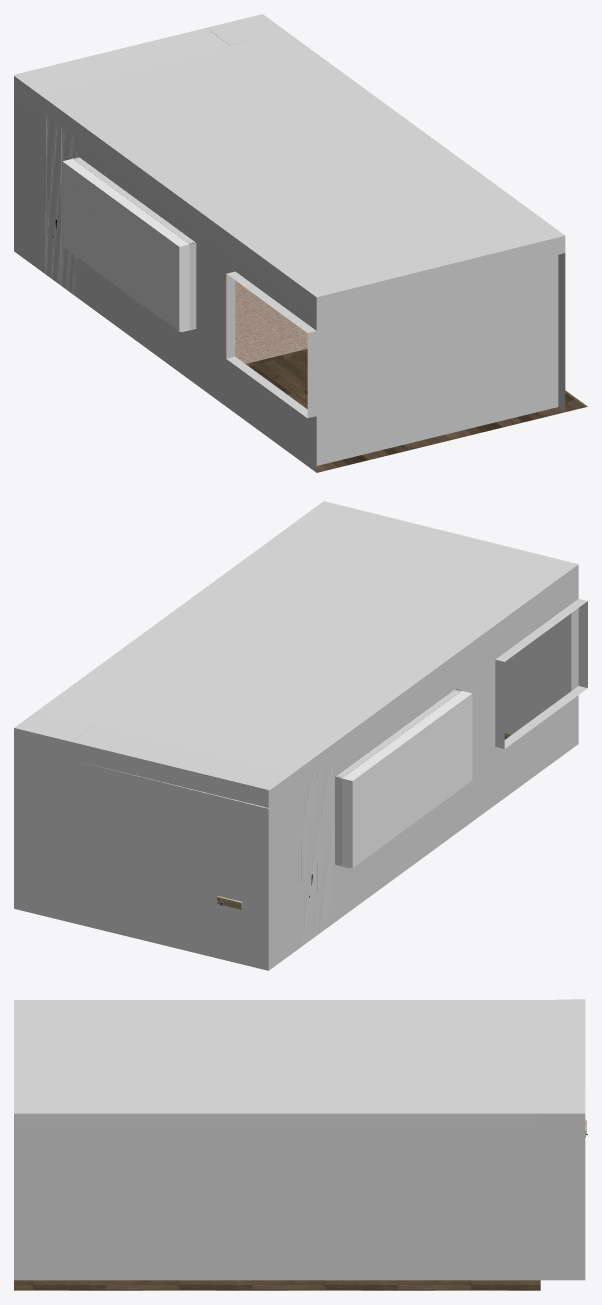
Rendered from beeb.glb.
3 renders of one model, top to bottom at view 1: azimuth 30°, elevation 25°; view 2: azimuth 150°, elevation 25°; view 3: azimuth 270°, elevation 25°, orthographic. The views are drawn at different scales.
Visible parts, largest first — view 1: dfvd, CTRL_Hole, dbfd, Planfbvce.003, fdb; view 2: dfvd, CTRL_Hole, fdb; view 3: dfvd, dbfd.
Boxes of the visible parts, <box> form: dfvd: <box>14,14,565,472</box>; CTRL_Hole: <box>62,159,189,331</box>; dbfd: <box>246,349,587,472</box>; Planfbvce.003: <box>235,280,307,363</box>; fdb: <box>45,116,76,295</box>; dfvd: <box>14,501,587,970</box>; CTRL_Hole: <box>342,691,472,867</box>; fdb: <box>301,762,333,945</box>; dfvd: <box>14,999,585,1280</box>; dbfd: <box>14,1280,540,1290</box>.
Bounding box in the file's own units: 4.25 × 2.49 × 7.77.
Materials: 65 (25 with a texture image).
